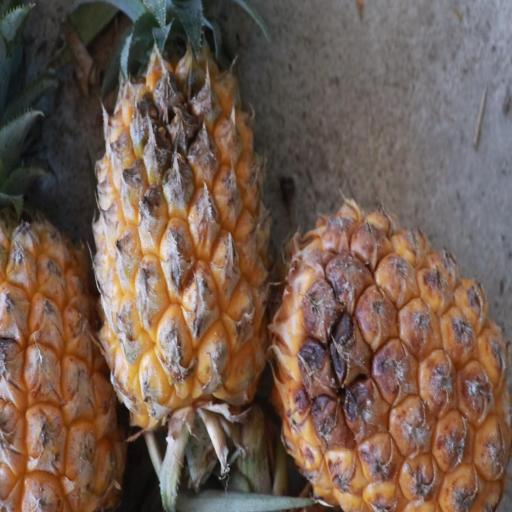Pineapple - v8 v1: (91, 0, 276, 450), (267, 197, 512, 512), (0, 0, 130, 512)
